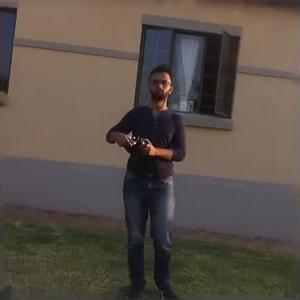follow: (101, 58, 189, 299)
